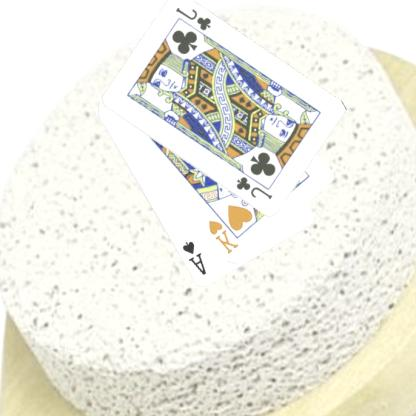AS: (181, 239, 209, 277)
JC: (174, 5, 215, 33), (235, 174, 276, 201)
KH: (207, 217, 242, 256)
